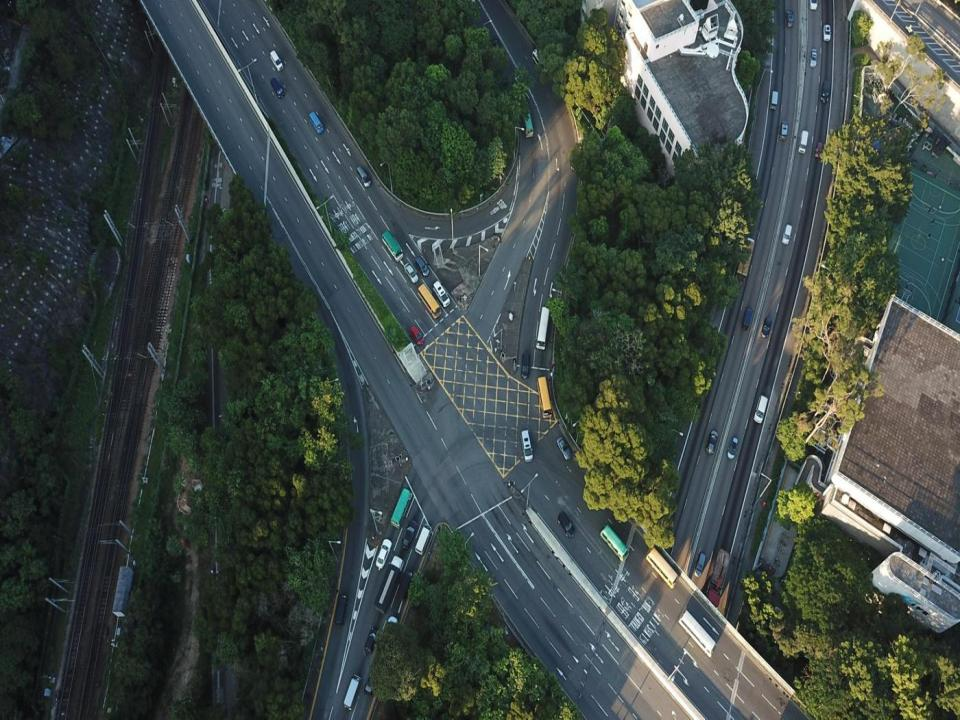bus: (679, 610, 716, 658), (646, 548, 678, 588), (600, 525, 629, 562), (390, 487, 413, 529), (418, 282, 441, 318), (536, 376, 552, 419), (382, 230, 403, 262), (536, 306, 550, 349), (522, 106, 534, 138)
car: (376, 538, 392, 568), (402, 520, 417, 551), (558, 513, 575, 537), (489, 37, 503, 66), (556, 436, 572, 460), (532, 50, 549, 72), (383, 616, 398, 640), (403, 262, 419, 282), (694, 552, 706, 578), (705, 430, 718, 454), (415, 256, 429, 278), (760, 315, 772, 339), (364, 671, 376, 694), (410, 326, 425, 344), (726, 436, 737, 460), (521, 351, 530, 379), (810, 47, 818, 68), (786, 10, 795, 27), (823, 24, 831, 40), (816, 141, 822, 159), (809, 0, 818, 11)
truck: (374, 556, 404, 614), (706, 549, 729, 610), (735, 236, 755, 282)
van: (344, 674, 362, 711), (415, 524, 433, 556), (433, 281, 450, 307), (520, 430, 533, 462), (398, 570, 411, 601), (754, 396, 767, 425), (335, 595, 346, 626), (356, 166, 372, 187), (309, 112, 323, 134), (270, 77, 284, 98), (270, 50, 283, 72), (741, 307, 753, 330), (366, 628, 377, 652), (799, 130, 808, 154), (821, 80, 830, 104), (783, 223, 792, 245), (780, 120, 788, 140), (770, 90, 778, 110)
